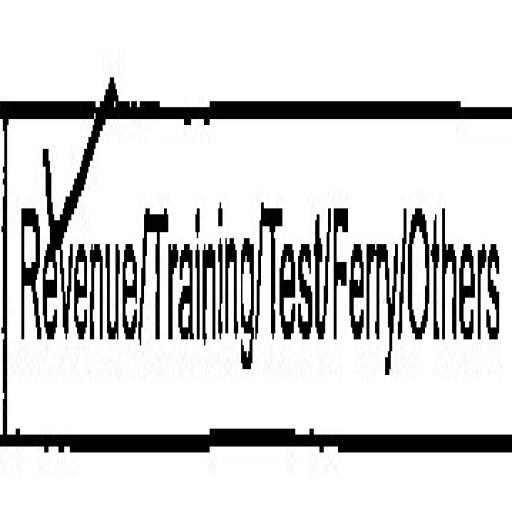check: (2, 2, 143, 507)
